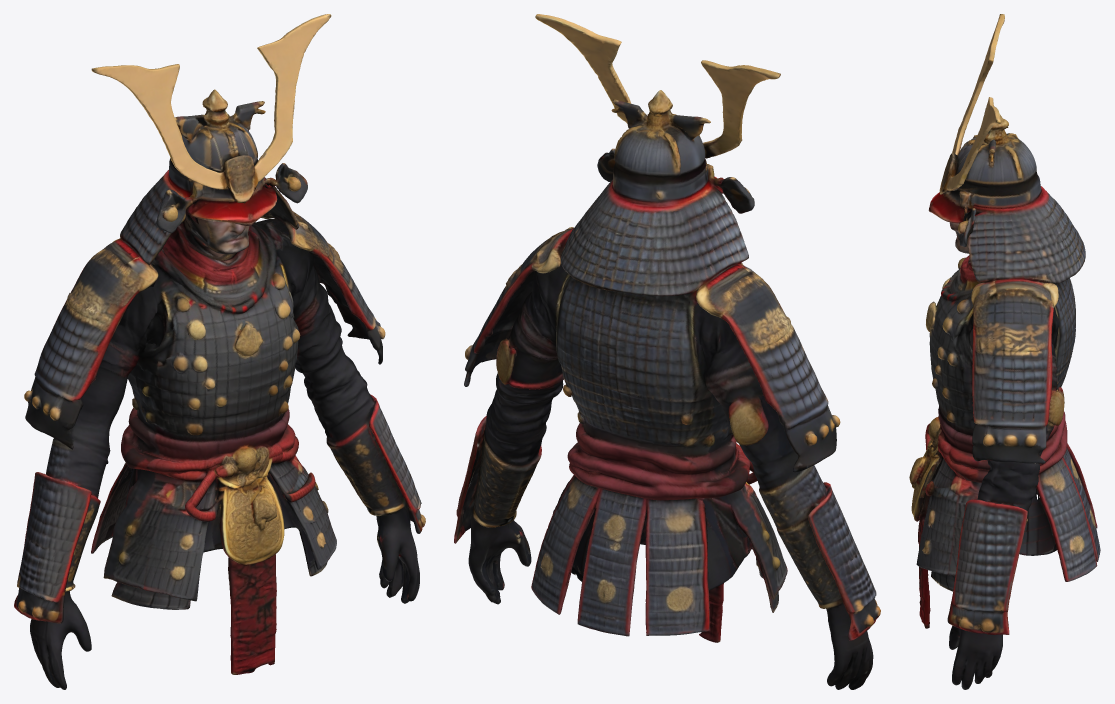
File: asset.gltf
The picture shows the model from 3 angles, left to right: view 1: azimuth 30°, elevation 25°; view 2: azimuth 150°, elevation 25°; view 3: azimuth 270°, elevation 25°; orthographic projection. The views are drawn at different scales.
Visible parts, largest first — view 1: Object_4, Object_5, Object_6, Object_7; view 2: Object_5, Object_4, Object_6, Object_7; view 3: Object_4, Object_5, Object_6, Object_7.
Part boxes in pixels (x1,y1,x2,y2): Object_4: (16, 14, 417, 689); Object_5: (17, 64, 425, 687); Object_6: (14, 14, 424, 681); Object_7: (17, 30, 423, 665); Object_5: (459, 60, 871, 689); Object_4: (465, 14, 876, 678); Object_6: (454, 14, 880, 688); Object_7: (459, 31, 872, 680); Object_4: (911, 97, 1099, 683); Object_5: (909, 14, 1100, 689); Object_6: (911, 14, 1097, 687); Object_7: (916, 98, 1099, 675).
Bounding box in the file's own units: 1.39 × 2 × 0.6252.
Materials: 1 (1 with a texture image).
